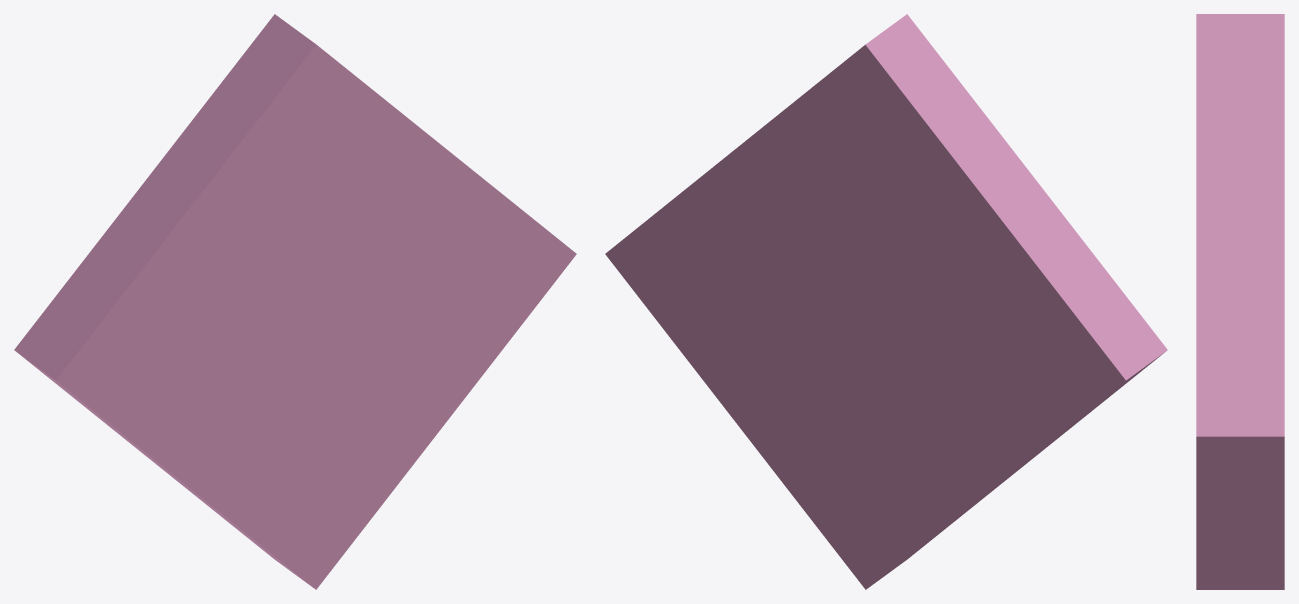
The model's file is boost.fbx.
3 renders of one model, left to right at view 1: azimuth 30°, elevation 25°; view 2: azimuth 150°, elevation 25°; view 3: azimuth 270°, elevation 25°, orthographic. The views are drawn at different scales.
Parts seen in each view (by area): view 1: Cube; view 2: Cube; view 3: Cube.
Part boxes in pixels (x1,y1,x2,y2): Cube: (14,14,576,589); Cube: (605,14,1167,589); Cube: (1196,14,1284,589).
Size of the model in its own units: 1.83 by 1.83 by 0.2544.
